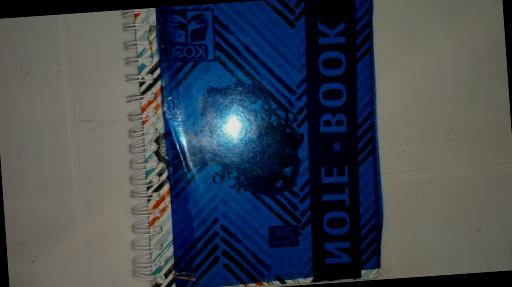notebook: (118, 0, 386, 287)
